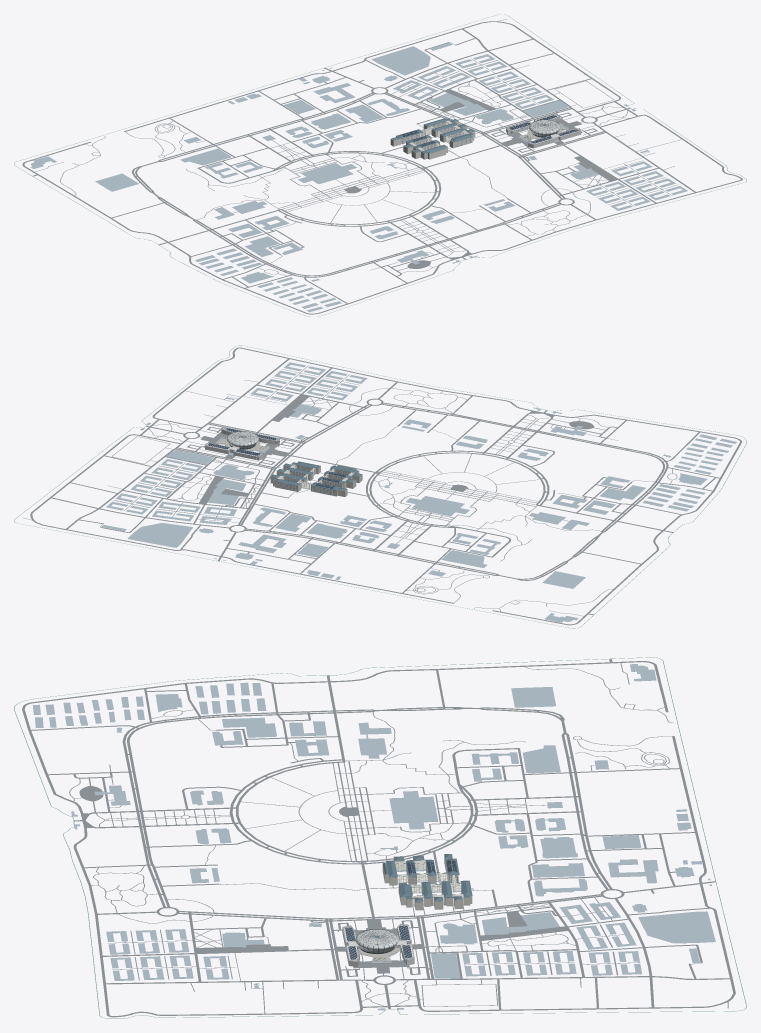
File: SEU_base_teaching_gym_v01.glb
The picture shows the model from 3 angles, top to bottom: view 1: azimuth 30°, elevation 25°; view 2: azimuth 150°, elevation 25°; view 3: azimuth 270°, elevation 25°; orthographic projection. The views are drawn at different scales.
Visible parts, largest first — view 1: SEU_BOUNDARY_OSM_171389014, SEU_B_OSMWAY_1056927550, SEU_B_OSMWAY_300030310, SEU_R_OSMWAY_300165418, SEU_R_OSMWAY_300165431; view 2: SEU_B_OSMWAY_1056927550, SEU_BOUNDARY_OSM_171389014, SEU_B_OSMWAY_300030310, SEU_R_OSMWAY_300165431, SEU_R_OSMWAY_300165418, SEU_B_OSMWAY_1056927538; view 3: SEU_B_OSMWAY_1056927550, SEU_BOUNDARY_OSM_171389014, SEU_B_OSMWAY_300030310, SEU_R_OSMWAY_300165418, SEU_B_OSMWAY_1056927538, SEU_B_OSMWAY_1488713409, SEU_R_OSMWAY_300165431, SEU_B_OSMWAY_300030325, SEU_R_OSMWAY_630686683, SEU_B_OSMWAY_1056927534, SEU_B_OSMWAY_1056927536, SEU_B_OSMWAY_300030305 (+2 smaller).
Boxes of the visible parts, x1,y1,x2,y2 form: SEU_BOUNDARY_OSM_171389014: [14, 14, 746, 316]; SEU_B_OSMWAY_1056927550: [371, 46, 430, 75]; SEU_B_OSMWAY_300030310: [298, 163, 357, 184]; SEU_R_OSMWAY_300165418: [22, 164, 311, 314]; SEU_R_OSMWAY_300165431: [124, 28, 461, 131]; SEU_B_OSMWAY_1056927550: [127, 523, 192, 547]; SEU_BOUNDARY_OSM_171389014: [14, 345, 746, 628]; SEU_B_OSMWAY_300030310: [406, 496, 469, 516]; SEU_R_OSMWAY_300165431: [65, 529, 454, 603]; SEU_R_OSMWAY_300165418: [573, 440, 741, 624]; SEU_B_OSMWAY_1056927538: [441, 550, 486, 567]; SEU_B_OSMWAY_1056927550: [638, 911, 715, 943]; SEU_BOUNDARY_OSM_171389014: [14, 657, 746, 1018]; SEU_B_OSMWAY_300030310: [389, 791, 438, 829]; SEU_R_OSMWAY_300165418: [25, 661, 650, 705]; SEU_B_OSMWAY_1056927538: [522, 745, 560, 773]; SEU_B_OSMWAY_1488713409: [511, 687, 555, 707]; SEU_R_OSMWAY_300165431: [672, 736, 732, 978]; SEU_B_OSMWAY_300030325: [358, 722, 391, 758]; SEU_R_OSMWAY_630686683: [179, 894, 602, 919]; SEU_B_OSMWAY_1056927534: [222, 717, 276, 737]; SEU_B_OSMWAY_1056927536: [608, 859, 658, 883]; SEU_B_OSMWAY_300030305: [540, 837, 577, 858].
Bounding box in the file's own units: 1860 × 27.3 × 1594.
